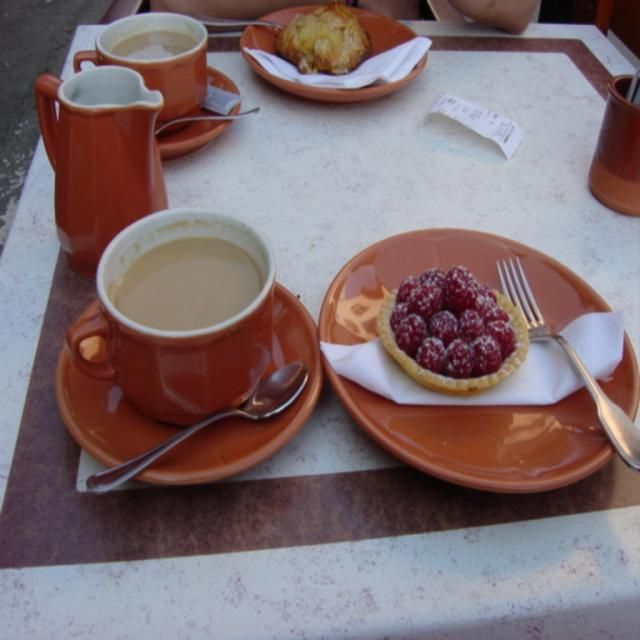Coffee: (80, 201, 286, 423), (110, 30, 199, 61)
Tea: (116, 231, 262, 327), (109, 29, 195, 60)
